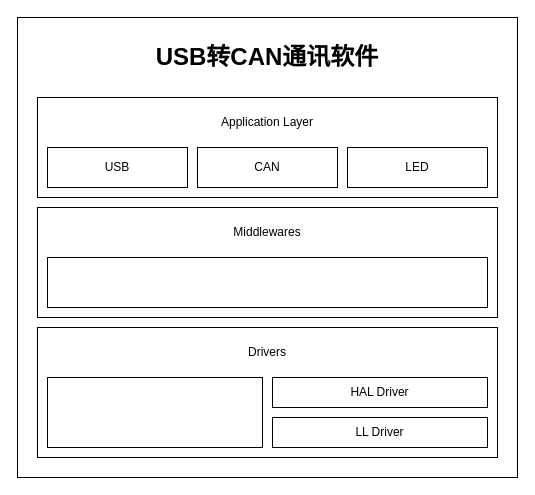
Image size: 535x495. Some labels were removed from this diagram. Here are the shapes that lost their labels. From the top down, the box of each, then its label:
(46, 256, 488, 308): USB Device Library
(46, 376, 262, 448): CMSIS
